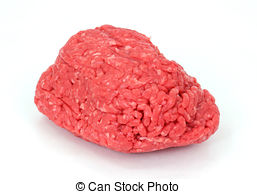ground_beef: (30, 23, 232, 159)
